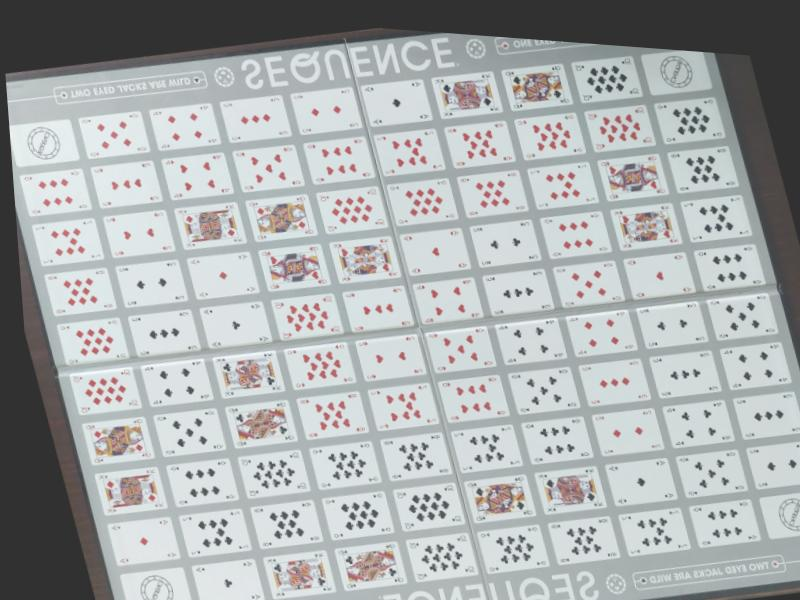Board: (5, 27, 800, 600)
